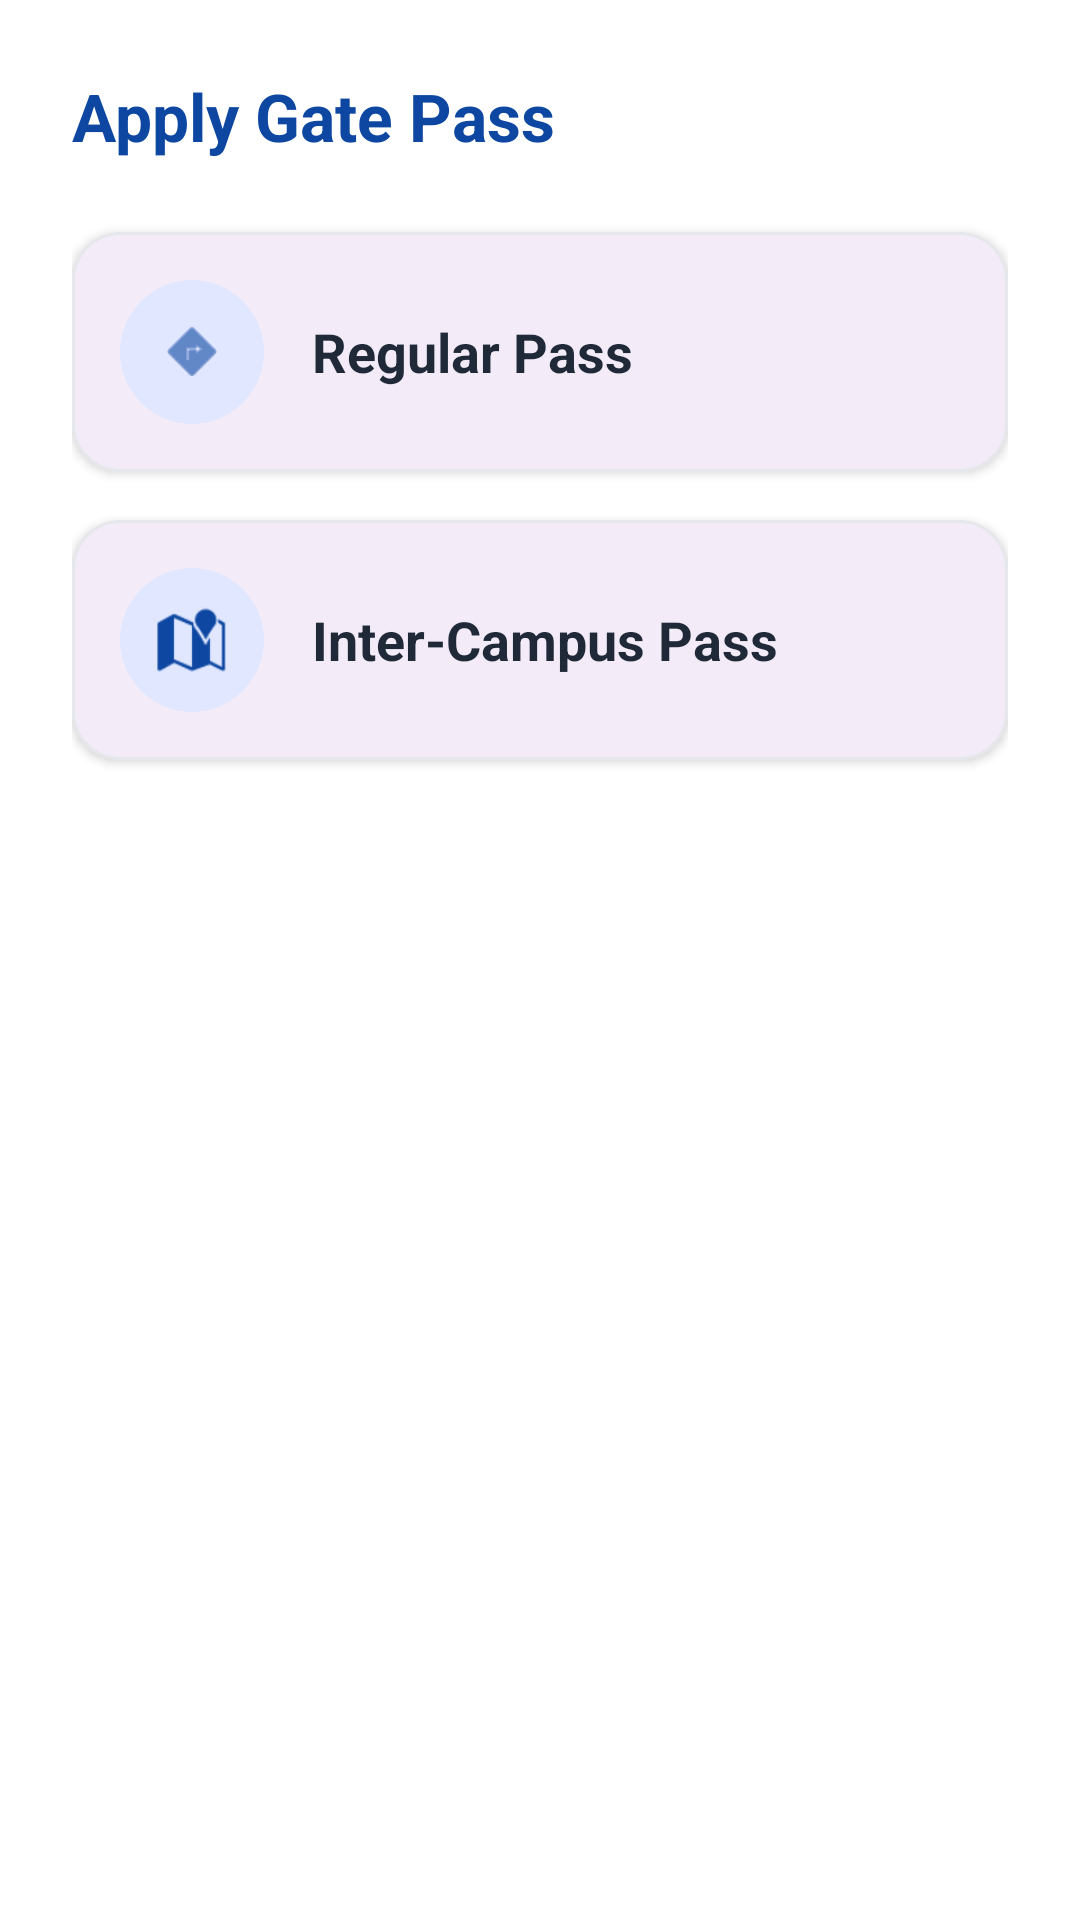

Icons on this 1080 x 1920 Android screen, each with the point to tap as point (x, y):
directions: point (192, 351)
map: point (191, 640)
